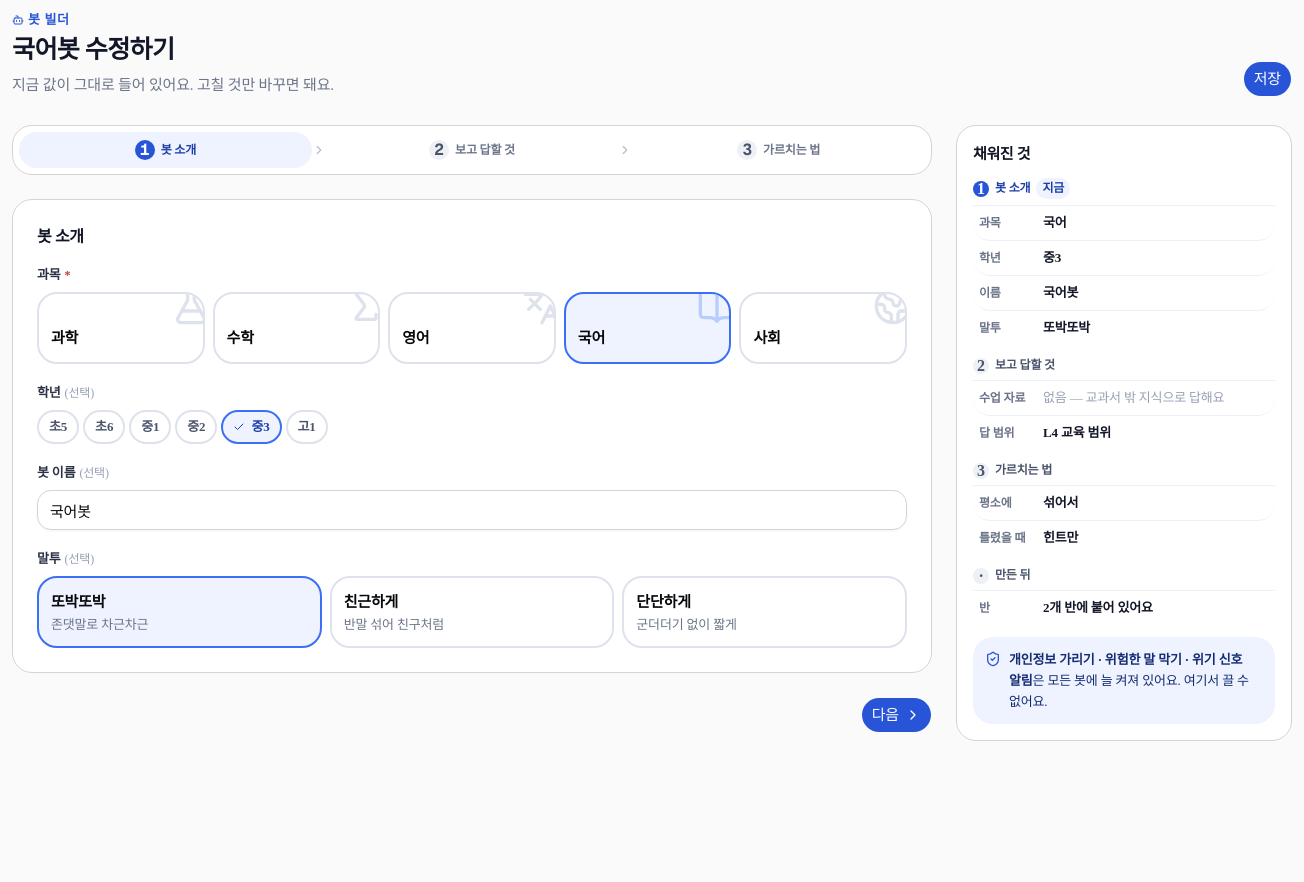
마당은 빌더와 같이 움직인다 › 되짚어 가는 「이전」은 막지 않는다
What coordinates should you click on to do the following:
click the button "다음"
I would click on:
 (896, 715)
Its box is top-left (861, 697), bottom-right (932, 733).
(page scrolled)
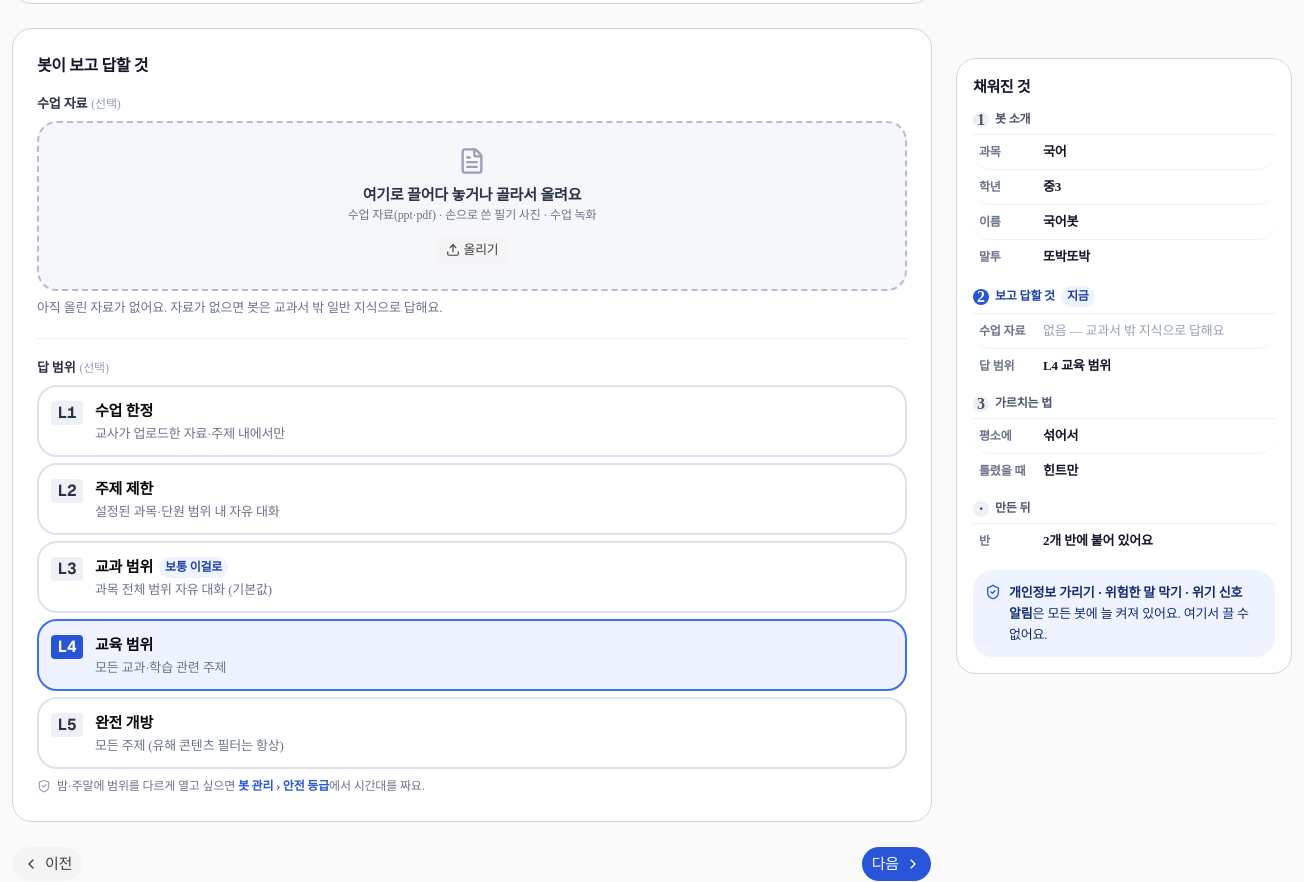
What coordinates should you click on to do the following:
click the button "이전"
I would click on:
 (48, 864)
Its box is top-left (12, 846), bottom-right (83, 881).
(page scrolled)
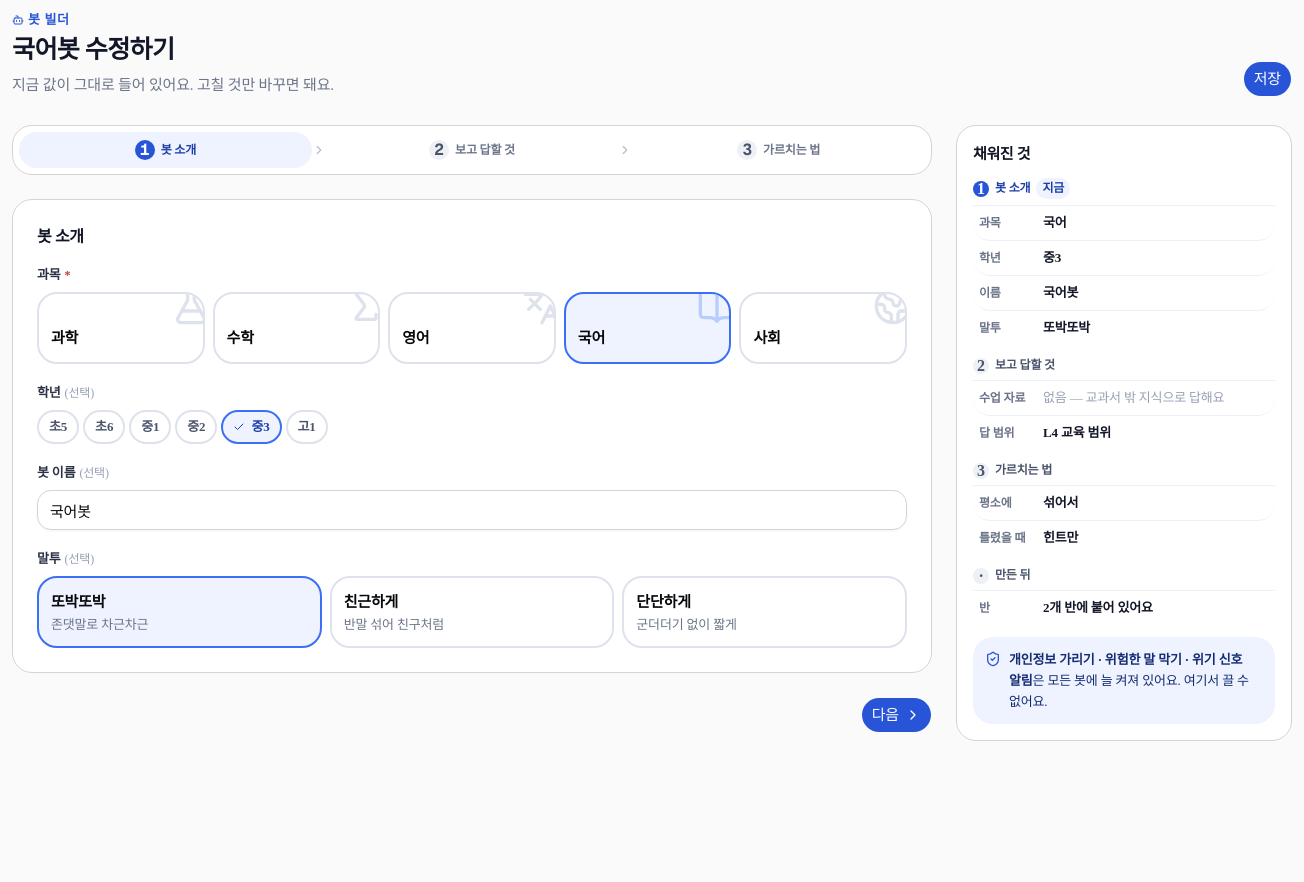
Now the heading "봇 소개" is shown, box top-left (37, 228), bottom-right (84, 245)
